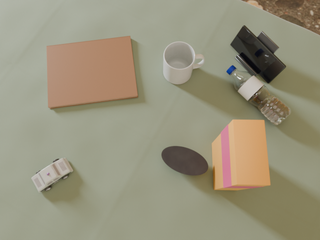book: (47, 36, 138, 109)
bottle: (227, 65, 291, 125)
box: (212, 120, 270, 190)
cup: (163, 42, 205, 84)
mouse: (162, 146, 208, 175)
phone: (230, 25, 286, 83)
toy_car: (32, 158, 73, 193)
